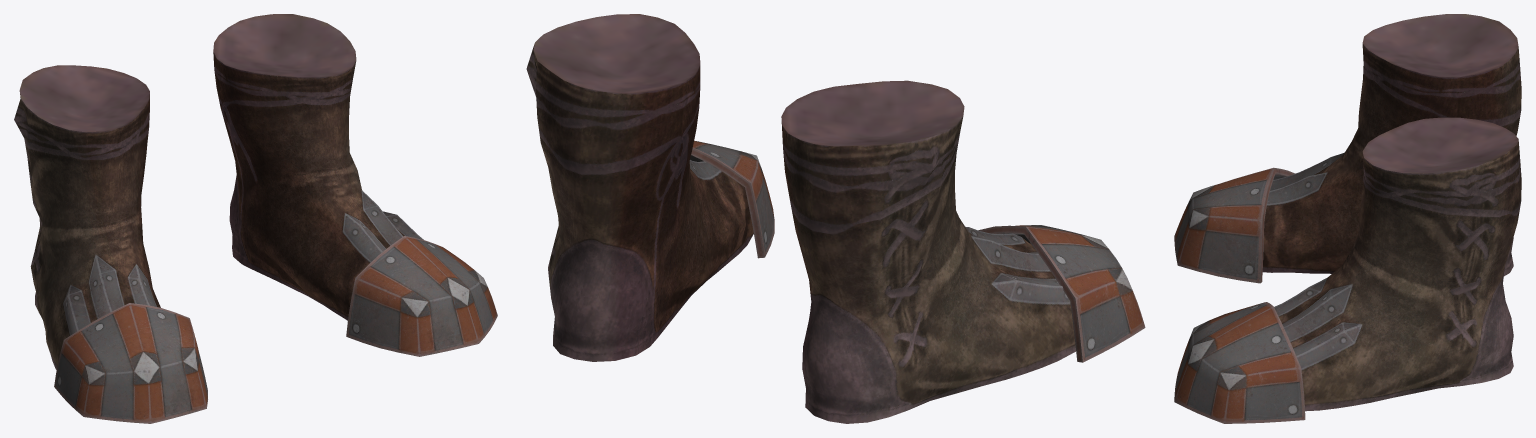
File: sk_dwarf_dain_boots_light_b.fbx
The picture shows the model from 3 angles, left to right: view 1: azimuth 30°, elevation 25°; view 2: azimuth 150°, elevation 25°; view 3: azimuth 270°, elevation 25°; orthographic projection. The views are drawn at different scales.
Parts seen in each view (by area): view 1: sk_dwarf_dain_boots_light_b; view 2: sk_dwarf_dain_boots_light_b; view 3: sk_dwarf_dain_boots_light_b.
Part boxes in pixels (x1,y1,x2,y2): sk_dwarf_dain_boots_light_b: [14, 14, 497, 423]; sk_dwarf_dain_boots_light_b: [526, 14, 1145, 423]; sk_dwarf_dain_boots_light_b: [1174, 14, 1521, 423].
Bounding box in the file's own units: 0.5801 × 0.4072 × 0.2997.
Materials: 1 (1 with a texture image).
